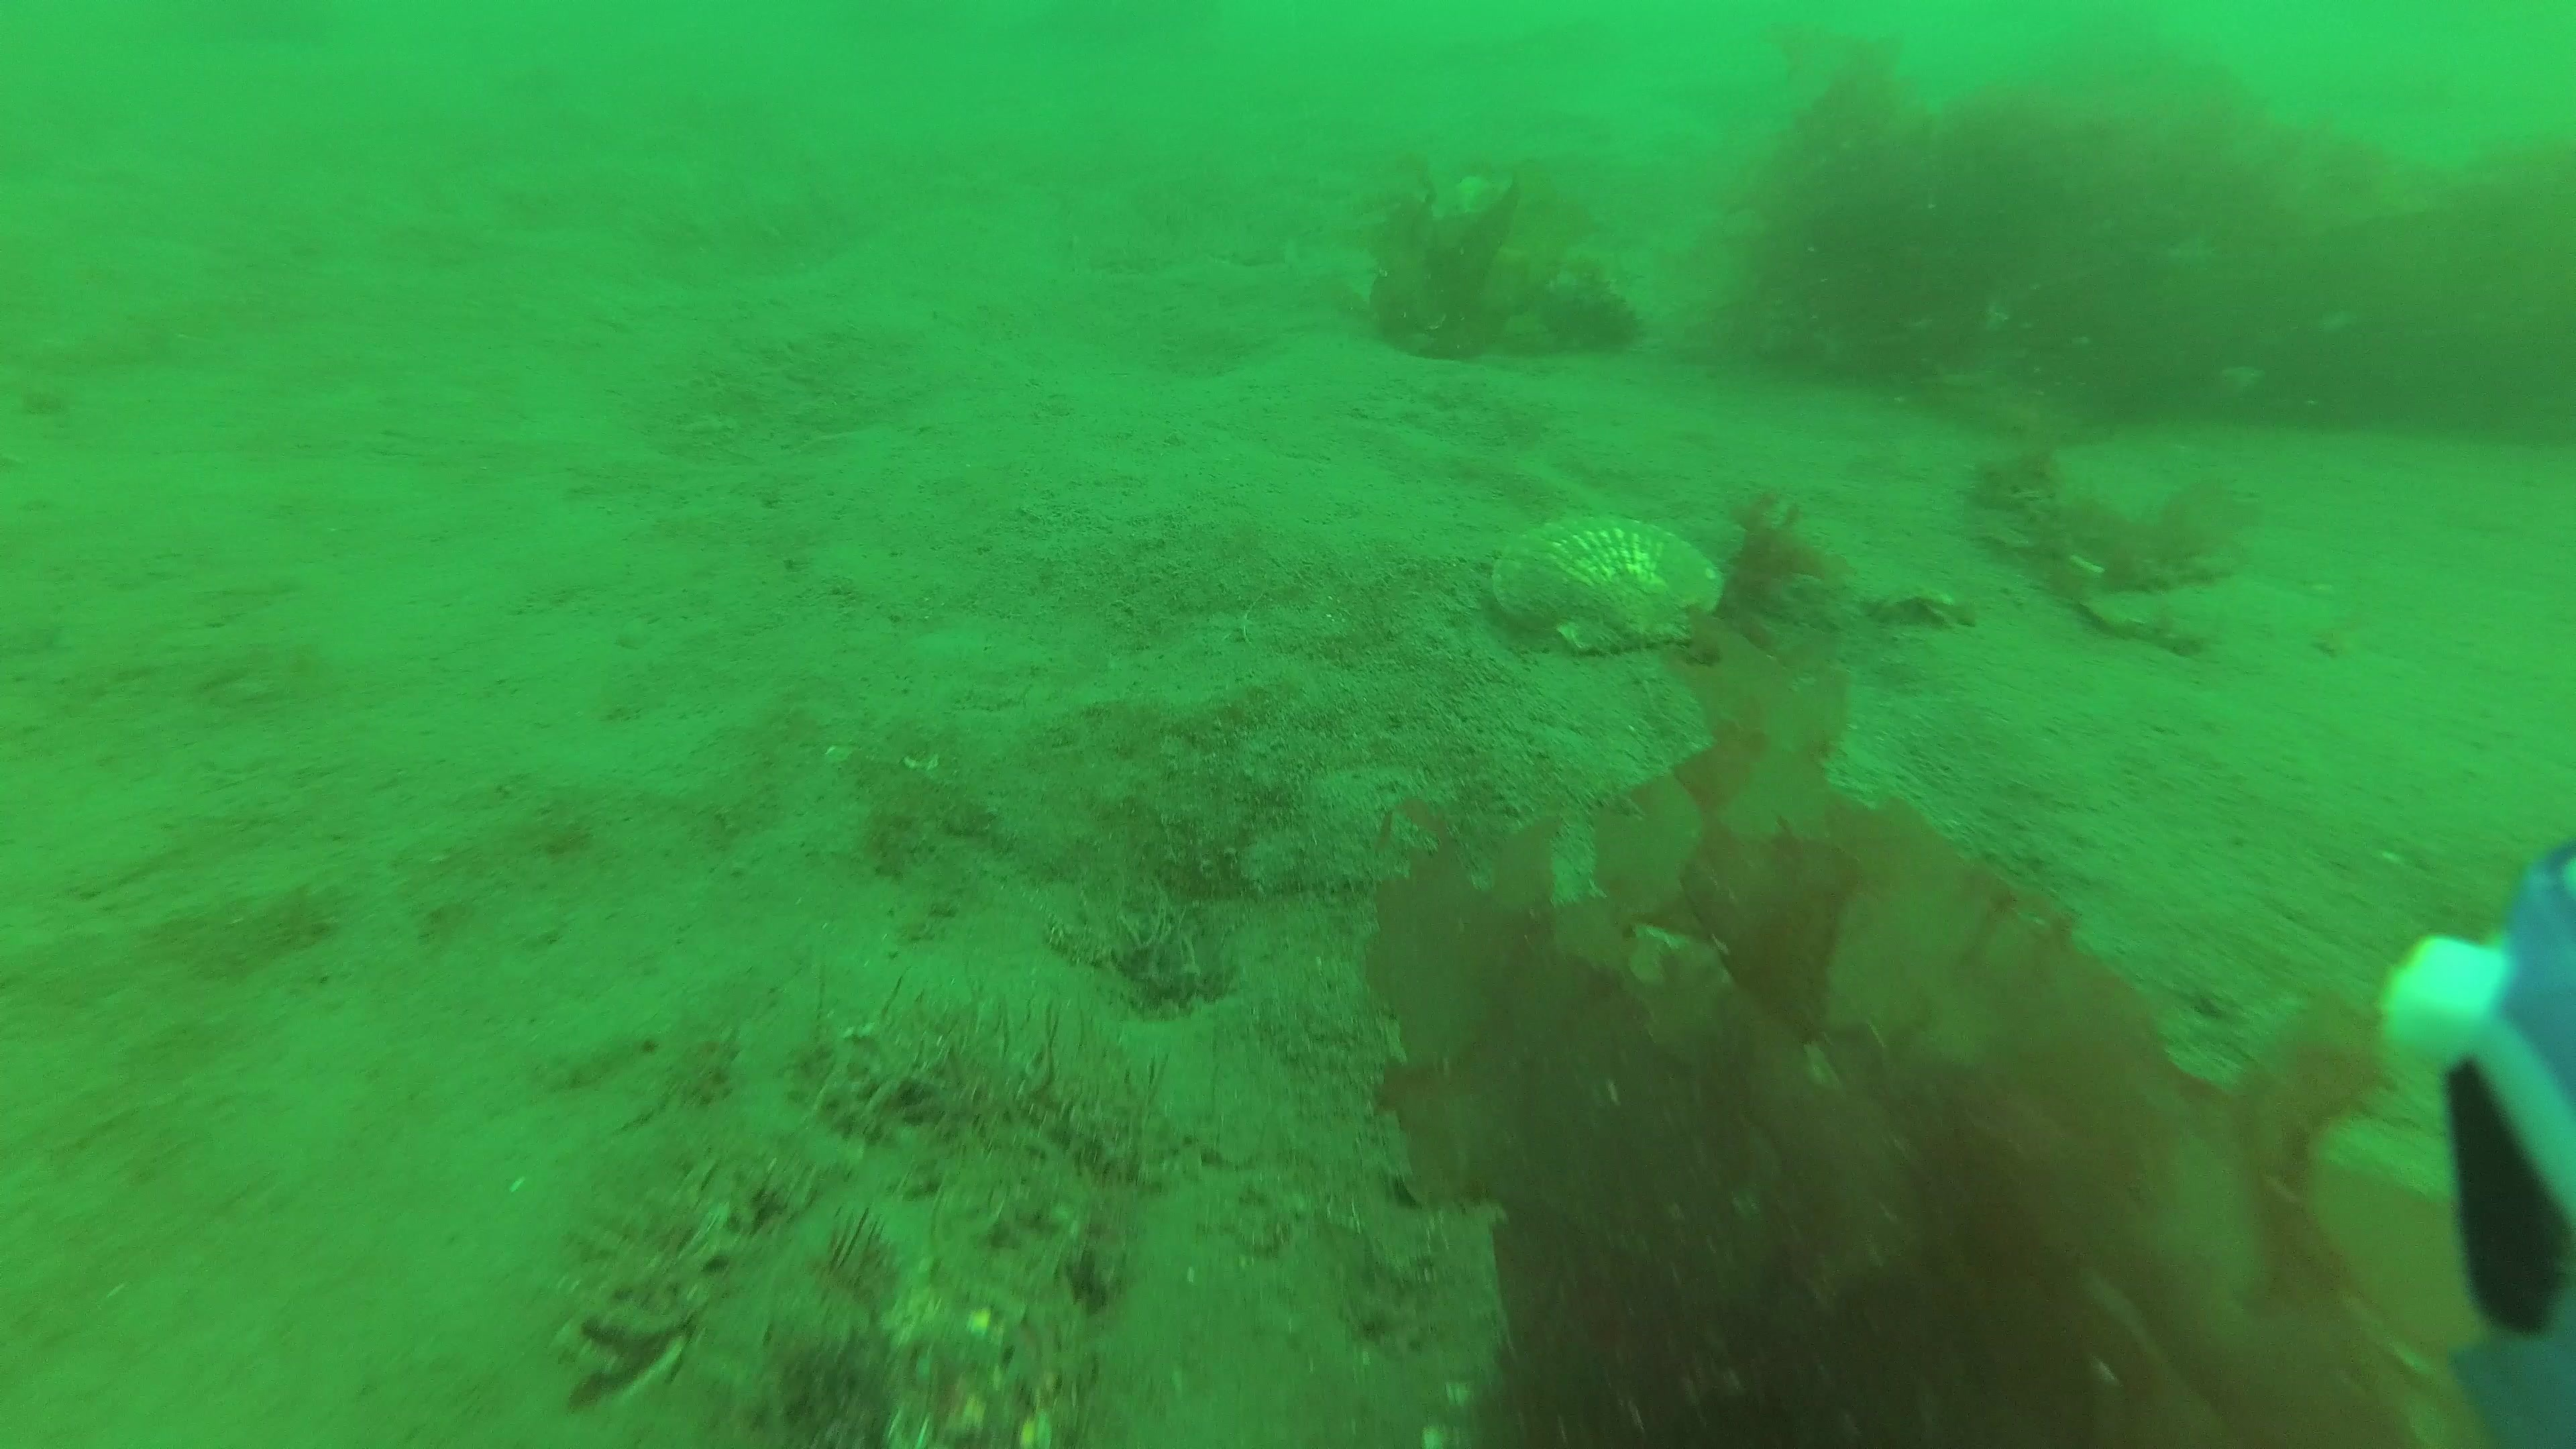scallop: (1493, 511, 1730, 656)
